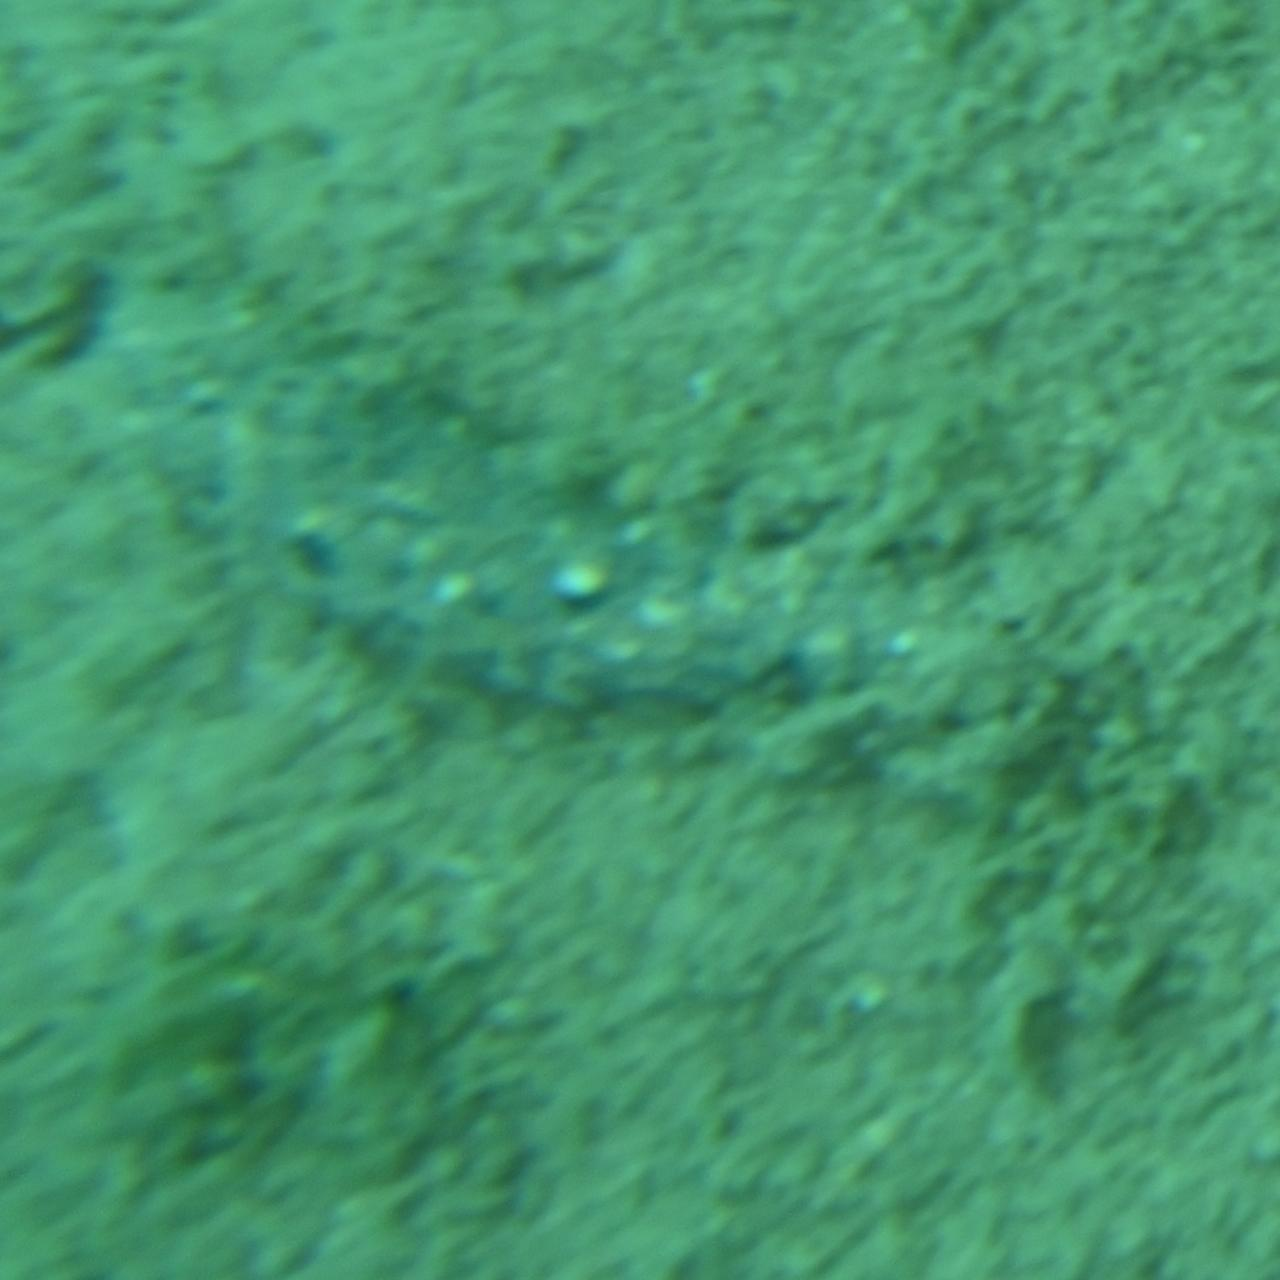Holothuria tubulosa: (267, 506, 1013, 774)
